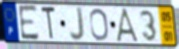3: (139, 9, 159, 42)
A: (115, 7, 142, 44)
E: (17, 5, 41, 42)
J: (69, 6, 86, 43)
O: (89, 8, 111, 43)
T: (40, 5, 57, 42)
